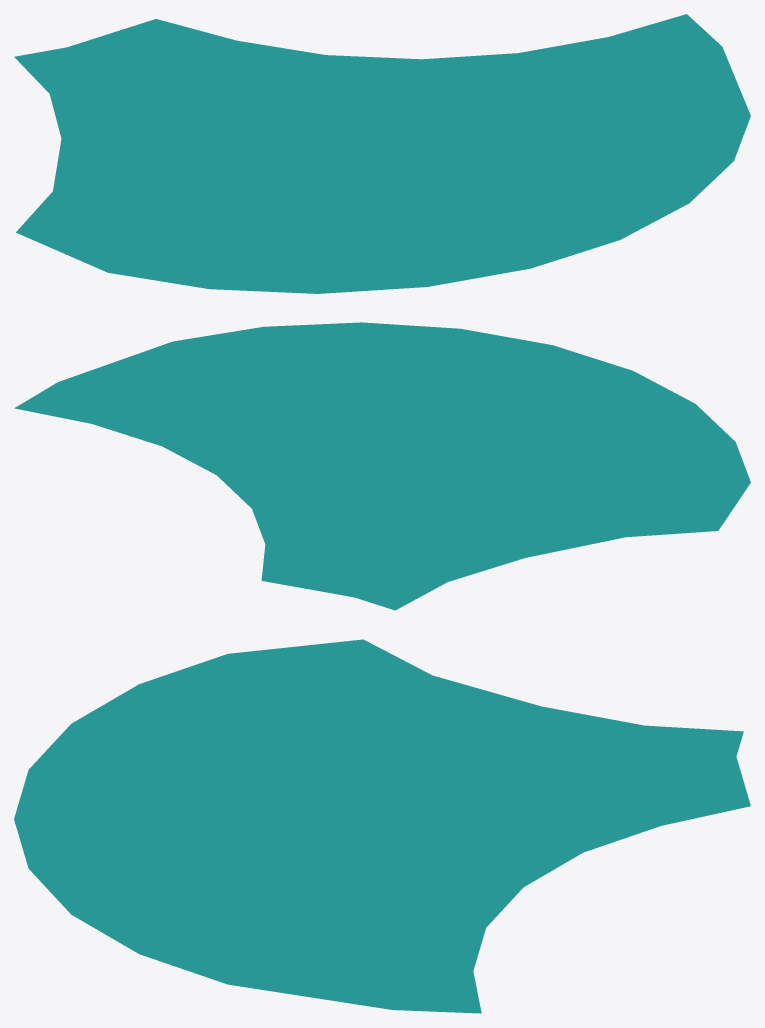
The model's file is grape_color_8.fbx.
3 views of the same model, one above another, from view 1: azimuth 30°, elevation 25°; view 2: azimuth 150°, elevation 25°; view 3: azimuth 270°, elevation 25° (orthographic). The views are drawn at different scales.
Visible parts, largest first — view 1: grape_color_8; view 2: grape_color_8; view 3: grape_color_8.
Part boxes in pixels (x1,y1,x2,y2): grape_color_8: (14, 14, 750, 293); grape_color_8: (14, 322, 750, 610); grape_color_8: (14, 639, 750, 1013).
Bounding box in the file's own units: 19.75 × 0 × 16.44.
